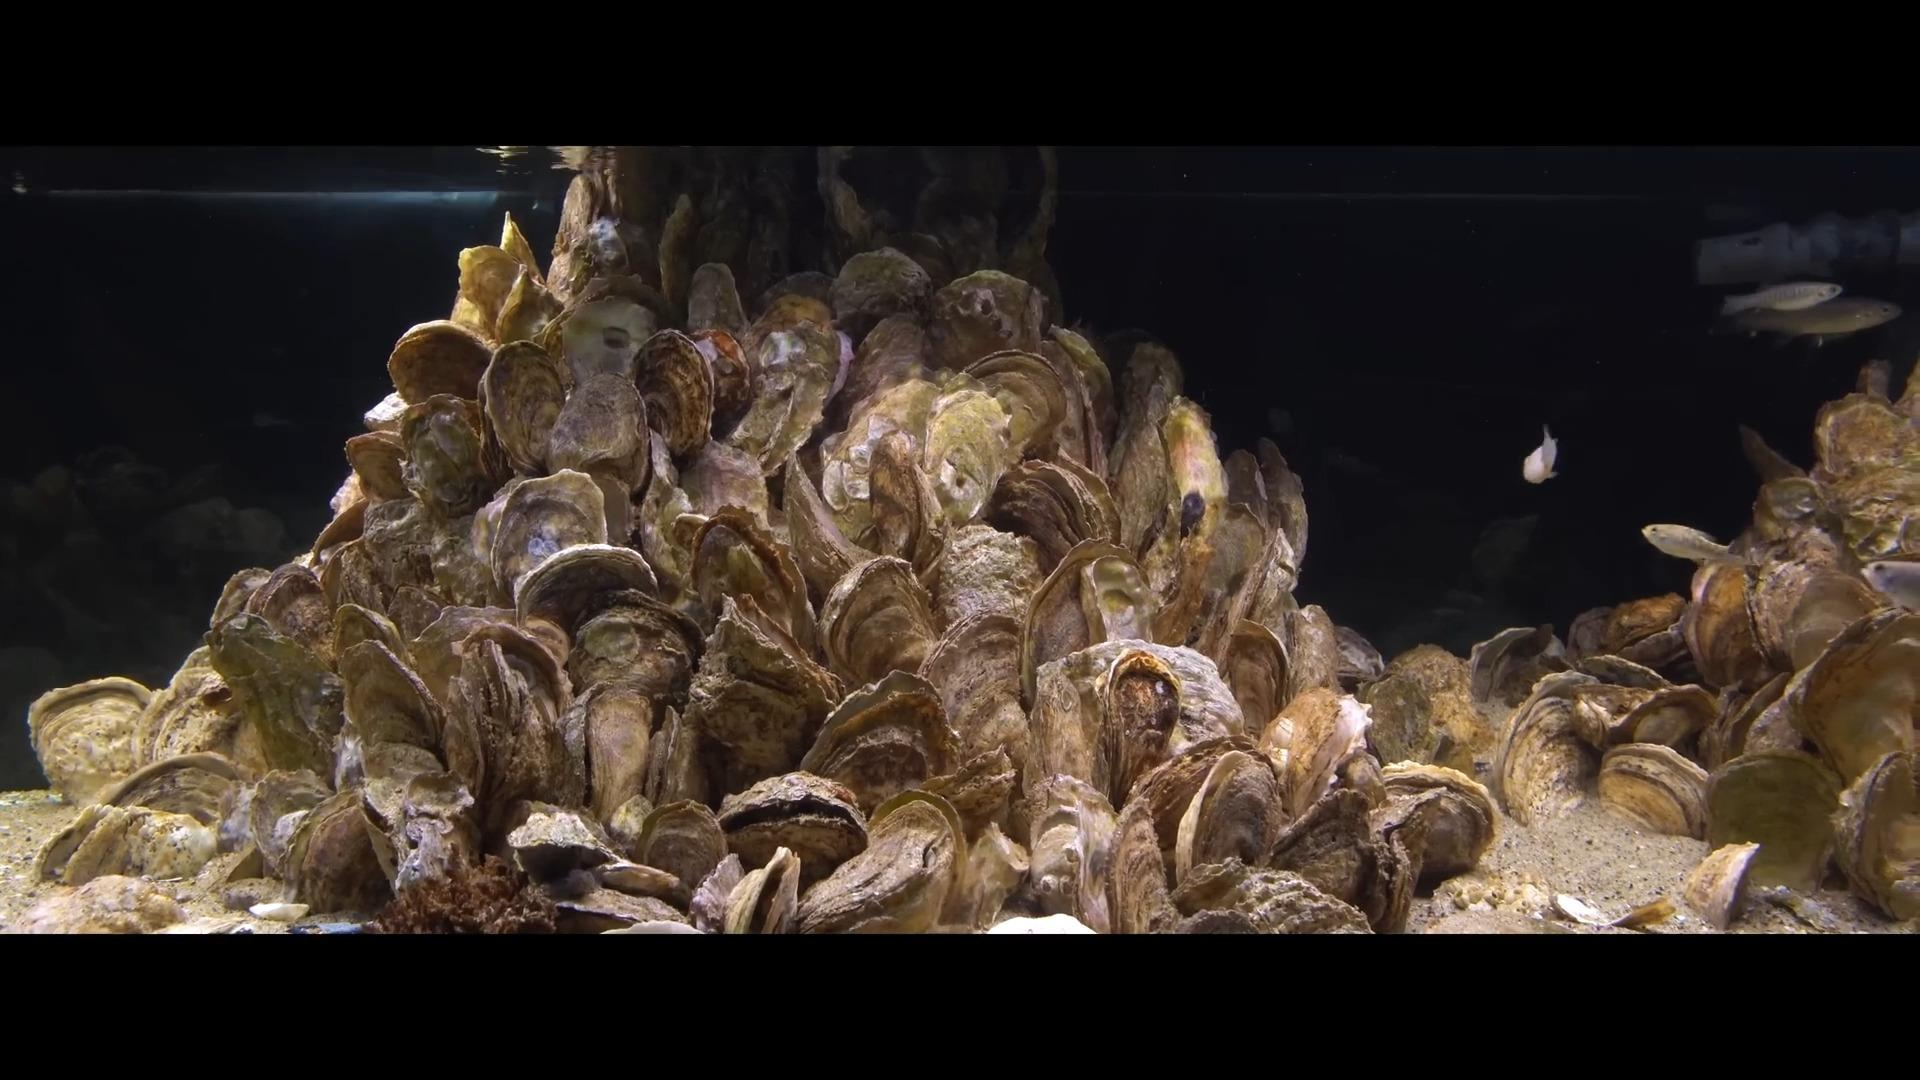Oyster: (683, 601, 837, 790), (790, 793, 965, 934), (198, 605, 344, 774), (1791, 608, 1917, 789), (798, 673, 948, 816), (1018, 535, 1151, 696), (735, 291, 844, 476), (923, 609, 1034, 774), (1708, 752, 1840, 889), (682, 514, 808, 657), (331, 625, 448, 778), (717, 771, 866, 887), (1371, 760, 1503, 890), (1017, 773, 1124, 934), (29, 676, 158, 804), (281, 783, 402, 919), (1254, 684, 1367, 827), (483, 469, 607, 599), (779, 446, 880, 604), (564, 593, 699, 711), (1830, 745, 1919, 920), (819, 556, 938, 686), (1184, 492, 1276, 654), (541, 367, 653, 500), (1495, 686, 1601, 827), (554, 682, 661, 820), (1106, 338, 1182, 534), (919, 385, 1019, 531), (1766, 564, 1890, 682), (137, 662, 255, 785), (986, 458, 1104, 576), (953, 347, 1075, 460), (1101, 647, 1187, 806), (676, 436, 781, 563), (1178, 753, 1276, 886), (920, 266, 1042, 375), (452, 615, 571, 724), (514, 545, 657, 634), (382, 773, 484, 897), (398, 392, 492, 521), (360, 492, 464, 605), (104, 752, 244, 832), (1683, 560, 1767, 694), (1267, 782, 1373, 887), (914, 740, 1019, 844), (11, 873, 190, 934), (484, 342, 564, 476), (1105, 786, 1179, 932), (632, 798, 731, 905), (554, 290, 658, 390), (1026, 657, 1098, 800), (237, 767, 334, 876), (1598, 742, 1706, 836), (634, 330, 711, 459), (1216, 618, 1292, 748), (865, 429, 932, 574), (1811, 393, 1912, 488), (450, 232, 535, 343), (827, 245, 934, 331), (1151, 529, 1222, 654), (506, 807, 626, 881), (388, 320, 491, 405), (244, 558, 334, 651), (34, 806, 135, 889), (1700, 673, 1779, 773), (1609, 684, 1720, 756), (1470, 625, 1563, 708), (1582, 593, 1692, 663), (713, 847, 799, 934), (1681, 840, 1763, 931), (1254, 435, 1305, 578), (1353, 823, 1418, 934), (1283, 601, 1346, 713), (647, 703, 709, 811), (694, 326, 754, 434), (340, 429, 413, 508), (1750, 476, 1826, 545), (683, 260, 748, 339), (657, 193, 702, 305), (589, 857, 690, 903), (1575, 653, 1683, 694), (1569, 686, 1638, 748)
